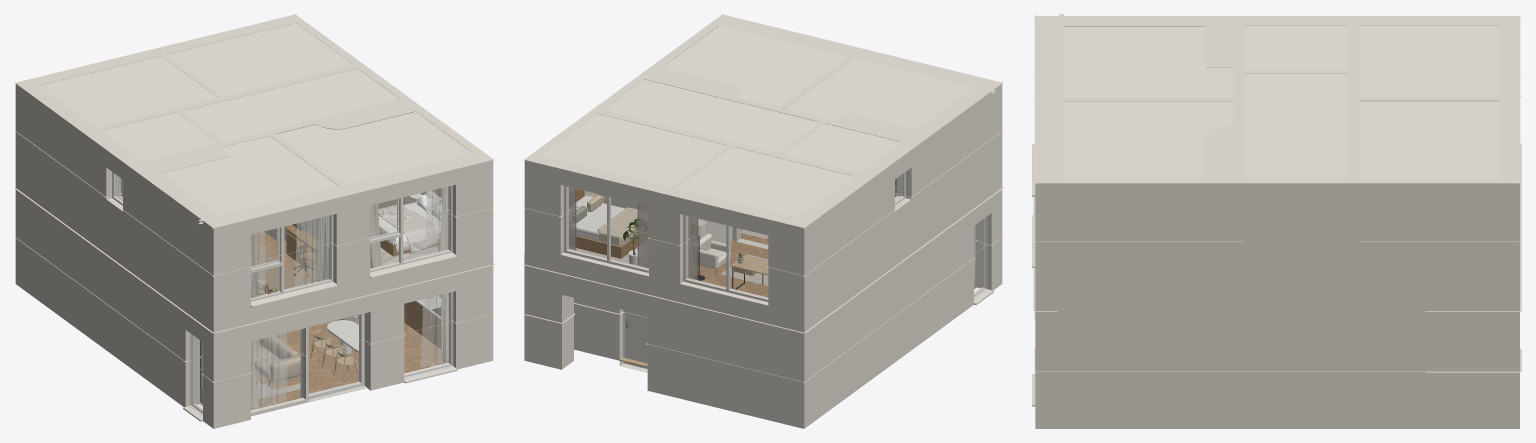
File: wnetrze-BLIZNIAK-v18.glb
The picture shows the model from 3 angles, left to right: view 1: azimuth 30°, elevation 25°; view 2: azimuth 150°, elevation 25°; view 3: azimuth 270°, elevation 25°; orthographic projection. The views are drawn at different scales.
Visible parts, largest first — view 1: KOND_1__SCIANY, KOND_1__SUFIT, KOND_0__SCIANY, KOND_0__OKNA, KOND_1__OKNA, KOND_1__WYPOSAZENIE, KOND_0__WYPOSAZENIE, KOND_0__PODLOGA, KOND_1__PODLOGA, KOND_1__WYPOSAZENIE_DYWAN, KOND_0__PRZEKROJ, KOND_1__PRZEKROJ; view 2: KOND_1__SCIANY, KOND_0__SCIANY, KOND_1__SUFIT, KOND_1__OKNA, KOND_1__WYPOSAZENIE, KOND_1__PODLOGA, KOND_0__OKNA, KOND_0__PRZEKROJ, KOND_1__PRZEKROJ; view 3: KOND_0__SCIANY, KOND_1__SCIANY, KOND_1__SUFIT, KOND_0__PRZEKROJ, KOND_1__PRZEKROJ.
Part boxes in pixels (x1,y1,x2,y2): KOND_1__SCIANY: [14, 14, 494, 322]; KOND_1__SUFIT: [40, 23, 472, 214]; KOND_0__SCIANY: [14, 68, 494, 428]; KOND_0__OKNA: [183, 292, 457, 421]; KOND_1__OKNA: [112, 172, 457, 307]; KOND_1__WYPOSAZENIE: [121, 178, 448, 297]; KOND_0__WYPOSAZENIE: [200, 293, 448, 410]; KOND_0__PODLOGA: [200, 321, 448, 408]; KOND_1__PODLOGA: [255, 232, 438, 290]; KOND_1__WYPOSAZENIE_DYWAN: [255, 251, 306, 293]; KOND_0__PRZEKROJ: [14, 236, 494, 382]; KOND_1__PRZEKROJ: [14, 130, 494, 276]; KOND_1__SCIANY: [523, 14, 1003, 322]; KOND_0__SCIANY: [523, 79, 1003, 428]; KOND_1__SUFIT: [541, 25, 973, 217]; KOND_1__OKNA: [564, 172, 905, 301]; KOND_1__WYPOSAZENIE: [569, 187, 768, 289]; KOND_1__PODLOGA: [698, 229, 768, 297]; KOND_0__OKNA: [974, 216, 993, 305]; KOND_0__PRZEKROJ: [523, 236, 1003, 382]; KOND_1__PRZEKROJ: [523, 130, 1003, 276]; KOND_0__SCIANY: [1033, 143, 1521, 428]; KOND_1__SCIANY: [1033, 14, 1521, 298]; KOND_1__SUFIT: [1064, 25, 1499, 178]; KOND_0__PRZEKROJ: [1033, 312, 1521, 372]; KOND_1__PRZEKROJ: [1033, 74, 1521, 242].
Bounding box in the file's own units: 8.3 × 5.75 × 10.11.
194 materials, 88 textured.
